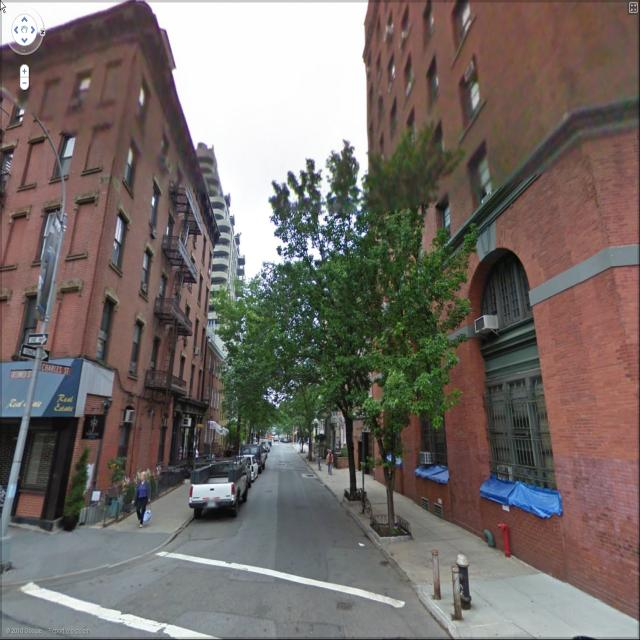b_1: (1, 1, 210, 508)
b_2: (368, 1, 638, 618), (313, 252, 374, 480), (211, 175, 261, 448)
